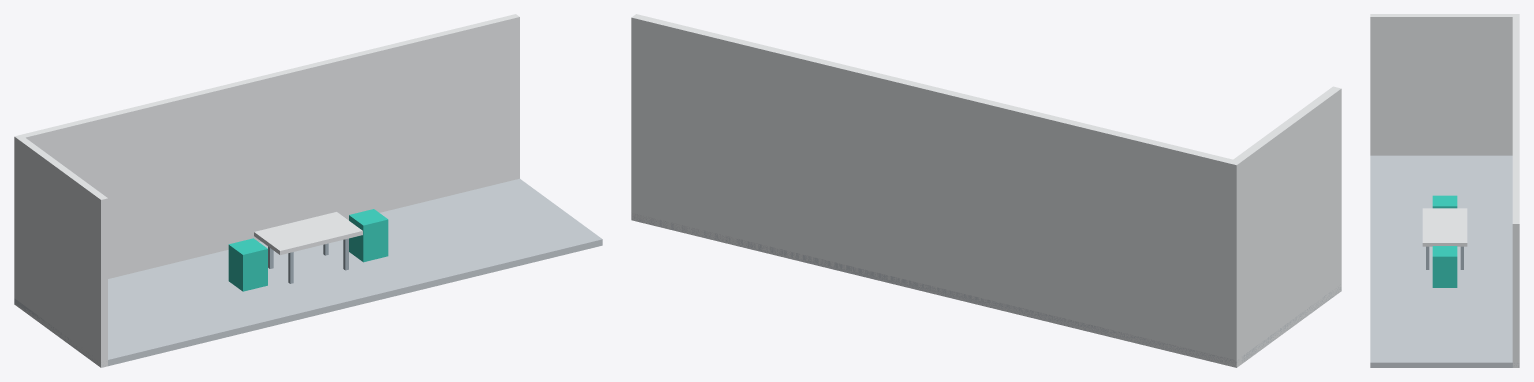
3 views of the same model, side by side, from view 1: azimuth 30°, elevation 25°; view 2: azimuth 150°, elevation 25°; view 3: azimuth 270°, elevation 25° (orthographic). The views are drawn at different scales.
Parts seen in each view (by area): view 1: Exhibition Booth Concept; view 2: Exhibition Booth Concept; view 3: Exhibition Booth Concept.
Boxes of the visible parts, <box> form: Exhibition Booth Concept: <box>14,14,602,367</box>; Exhibition Booth Concept: <box>631,14,1341,367</box>; Exhibition Booth Concept: <box>1370,14,1519,367</box>.
Size of the model in its own units: 10 by 3.2 by 3.
